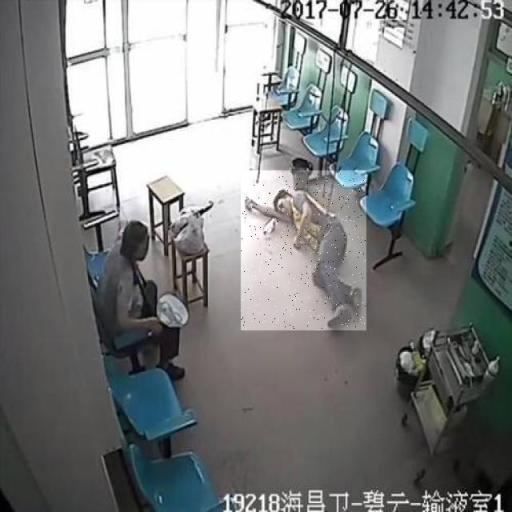Fall: (241, 171, 366, 331)
